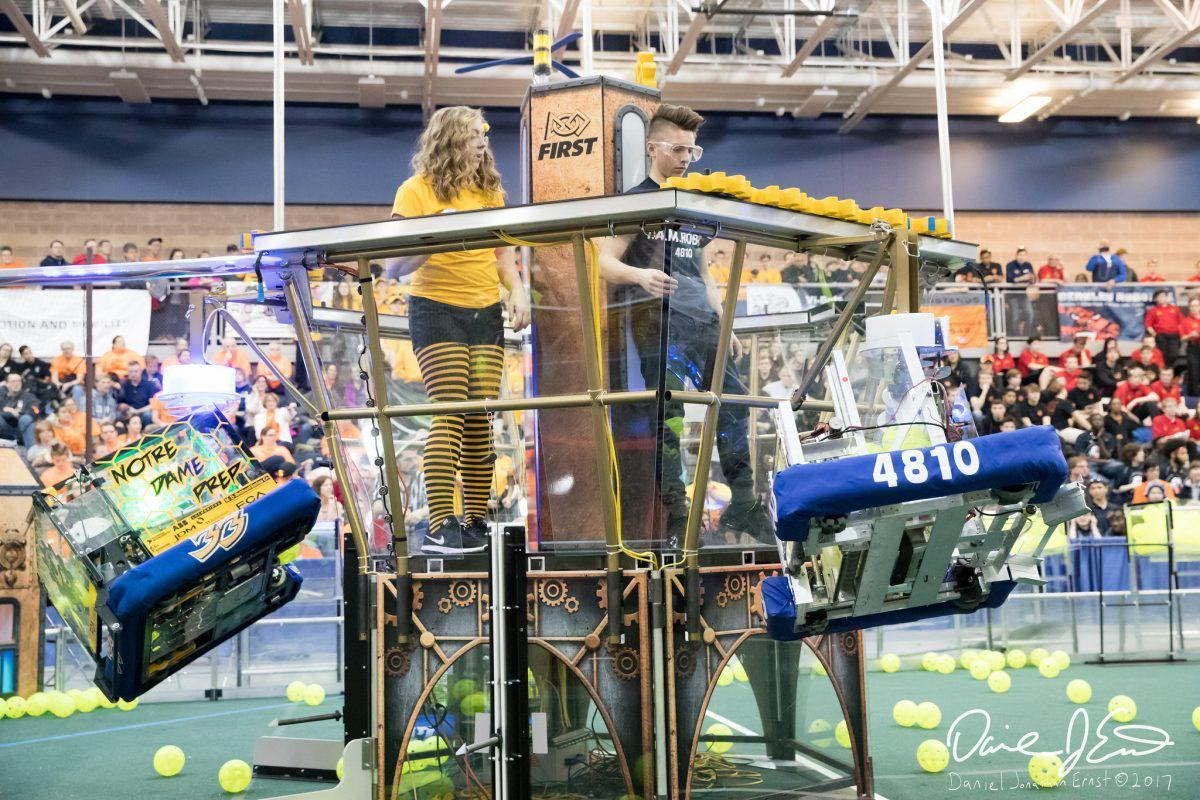robot: (0, 236, 324, 718), (763, 212, 1072, 671)
